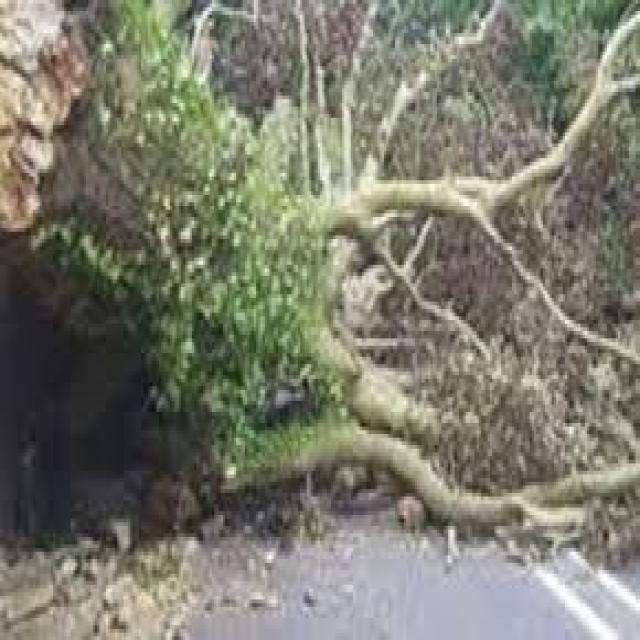fallen_object: (193, 348, 640, 556), (280, 122, 640, 294)
